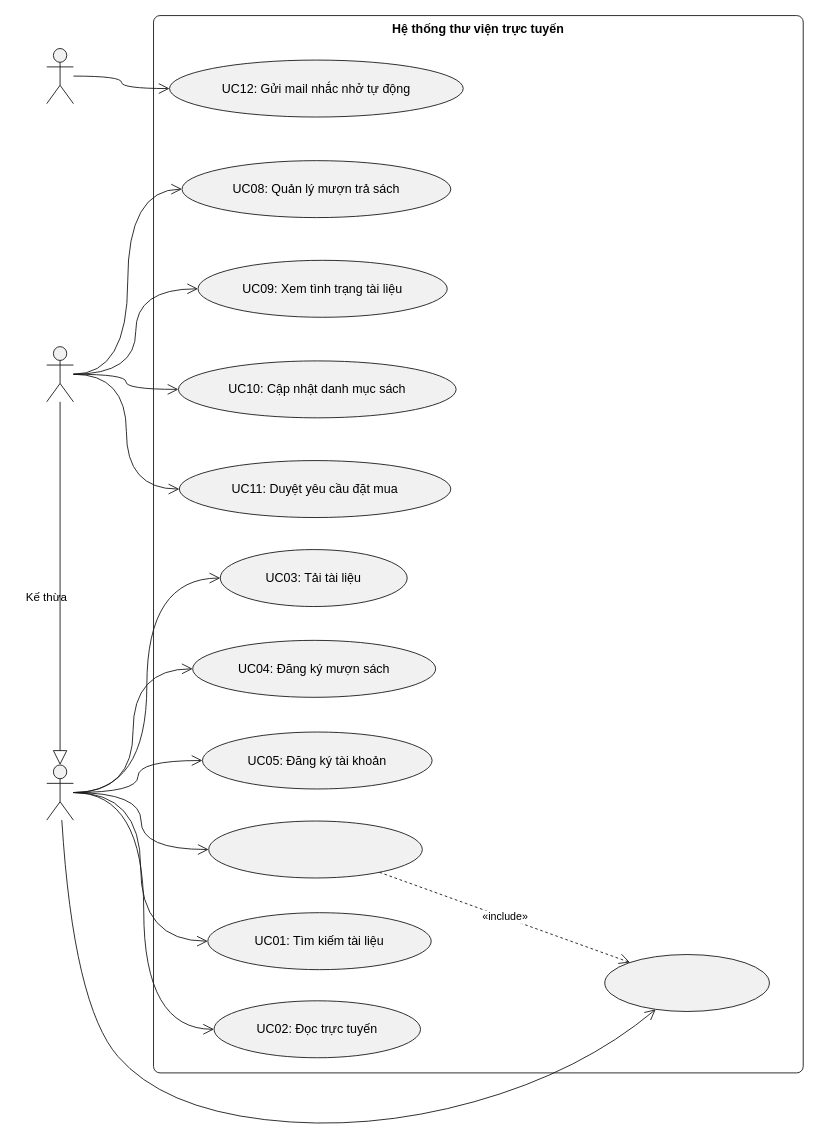
This 819x1139 diagram has some shape labels left out. Here are the shapes that lost their labels. From the top down, the box of each, then its label:
(46, 48, 73, 104): Hệ thống
(46, 346, 73, 402): Thủ thư
(46, 764, 73, 820): Độc giả
(208, 820, 422, 878): UC07: Đặt mua tài liệu
(604, 954, 769, 1011): UC06: Đăng nhập
